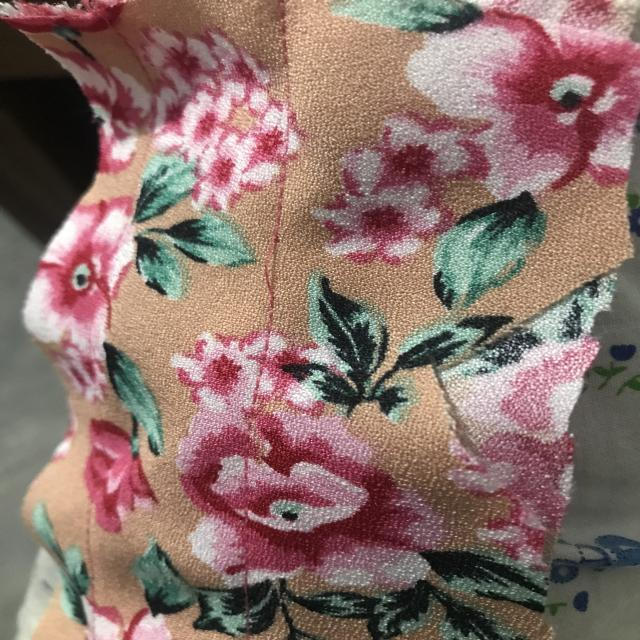skip: (245, 208, 292, 304)
